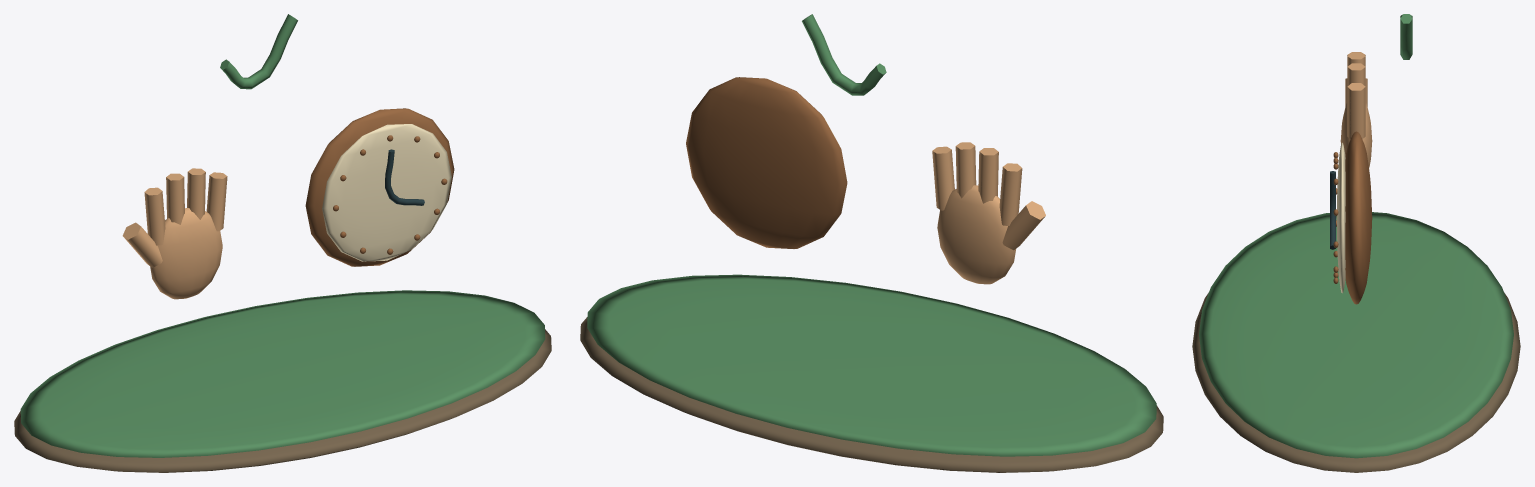
The model's file is complete-third-reach-before-clock.glb.
3 renders of one model, left to right at view 1: azimuth 30°, elevation 25°; view 2: azimuth 150°, elevation 25°; view 3: azimuth 270°, elevation 25°, orthographic. The views are drawn at different scales.
Parts seen in each view (by area): view 1: complete-third-reach-before-clock_surface_01, complete-third-reach-before-clock_surface_04, complete-third-reach-before-clock_surface_02, complete-third-reach-before-clock_surface_00, complete-third-reach-before-clock_surface_03, complete-third-reach-before-clock_surface_05; view 2: complete-third-reach-before-clock_surface_01, complete-third-reach-before-clock_surface_03, complete-third-reach-before-clock_surface_02, complete-third-reach-before-clock_surface_00; view 3: complete-third-reach-before-clock_surface_01, complete-third-reach-before-clock_surface_00, complete-third-reach-before-clock_surface_03, complete-third-reach-before-clock_surface_02, complete-third-reach-before-clock_surface_04, complete-third-reach-before-clock_surface_05.
Part boxes in pixels (<box>): complete-third-reach-before-clock_surface_01: <box>20,14,545,457</box>; complete-third-reach-before-clock_surface_04: <box>322,124,451,261</box>; complete-third-reach-before-clock_surface_02: <box>122,168,227,299</box>; complete-third-reach-before-clock_surface_00: <box>14,329,551,472</box>; complete-third-reach-before-clock_surface_03: <box>305,108,454,266</box>; complete-third-reach-before-clock_surface_05: <box>385,149,424,205</box>; complete-third-reach-before-clock_surface_01: <box>587,14,1156,456</box>; complete-third-reach-before-clock_surface_03: <box>686,77,847,248</box>; complete-third-reach-before-clock_surface_02: <box>932,142,1045,284</box>; complete-third-reach-before-clock_surface_00: <box>580,317,1163,472</box>; complete-third-reach-before-clock_surface_01: <box>1199,14,1513,458</box>; complete-third-reach-before-clock_surface_00: <box>1192,292,1520,472</box>; complete-third-reach-before-clock_surface_03: <box>1333,131,1372,304</box>; complete-third-reach-before-clock_surface_02: <box>1340,52,1372,167</box>; complete-third-reach-before-clock_surface_04: <box>1336,142,1345,293</box>; complete-third-reach-before-clock_surface_05: <box>1330,171,1335,249</box>.
Bounding box in the file's own units: 4.56 × 3.05 × 2.5.
